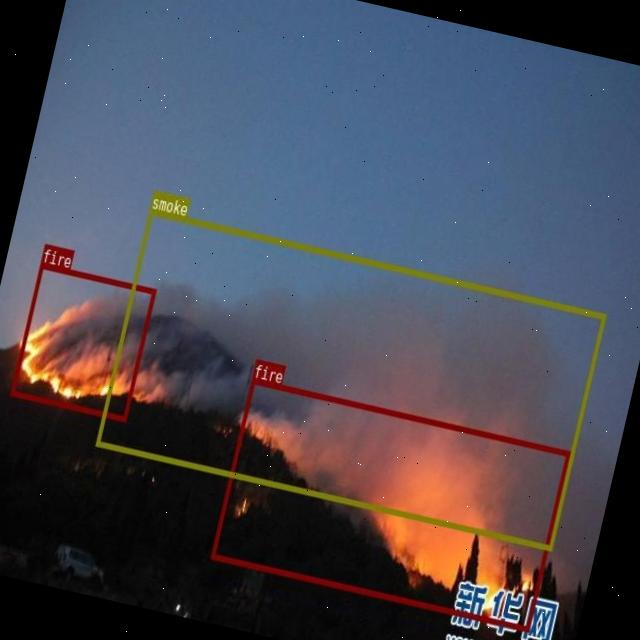fire: (210, 376, 570, 631), (10, 262, 156, 421)
smoke: (95, 208, 606, 550)
